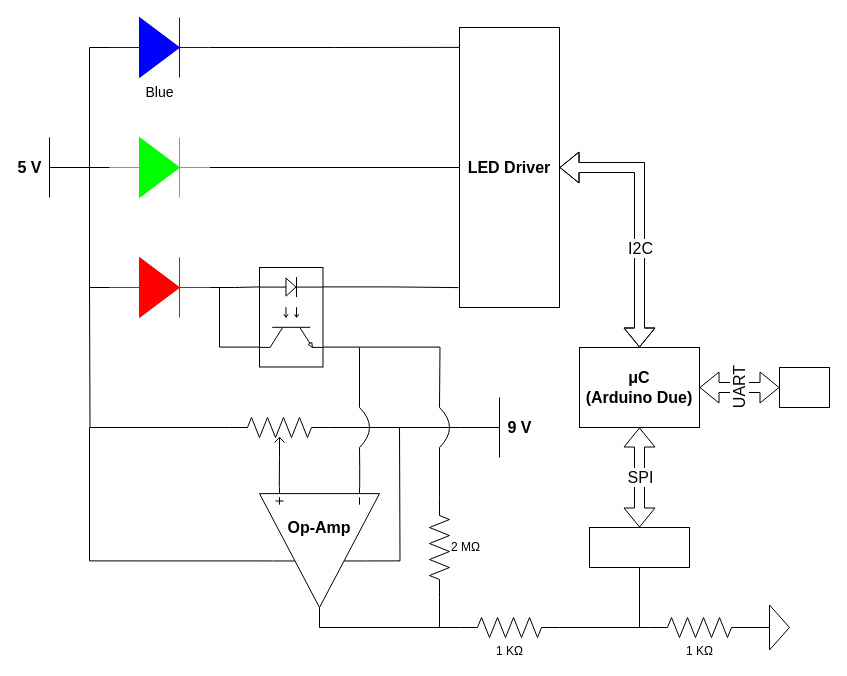
Image size: 847x676. Some labels were removed from this diagram. The centre of each missing label's shape, as x and y in pixels:
"ADC" goes at point 639,547.
"Green" goes at point 159,167.
"PC" goes at point 804,387.
"Red" goes at point 159,287.
"SSR (NC)" goes at point 290,316.
